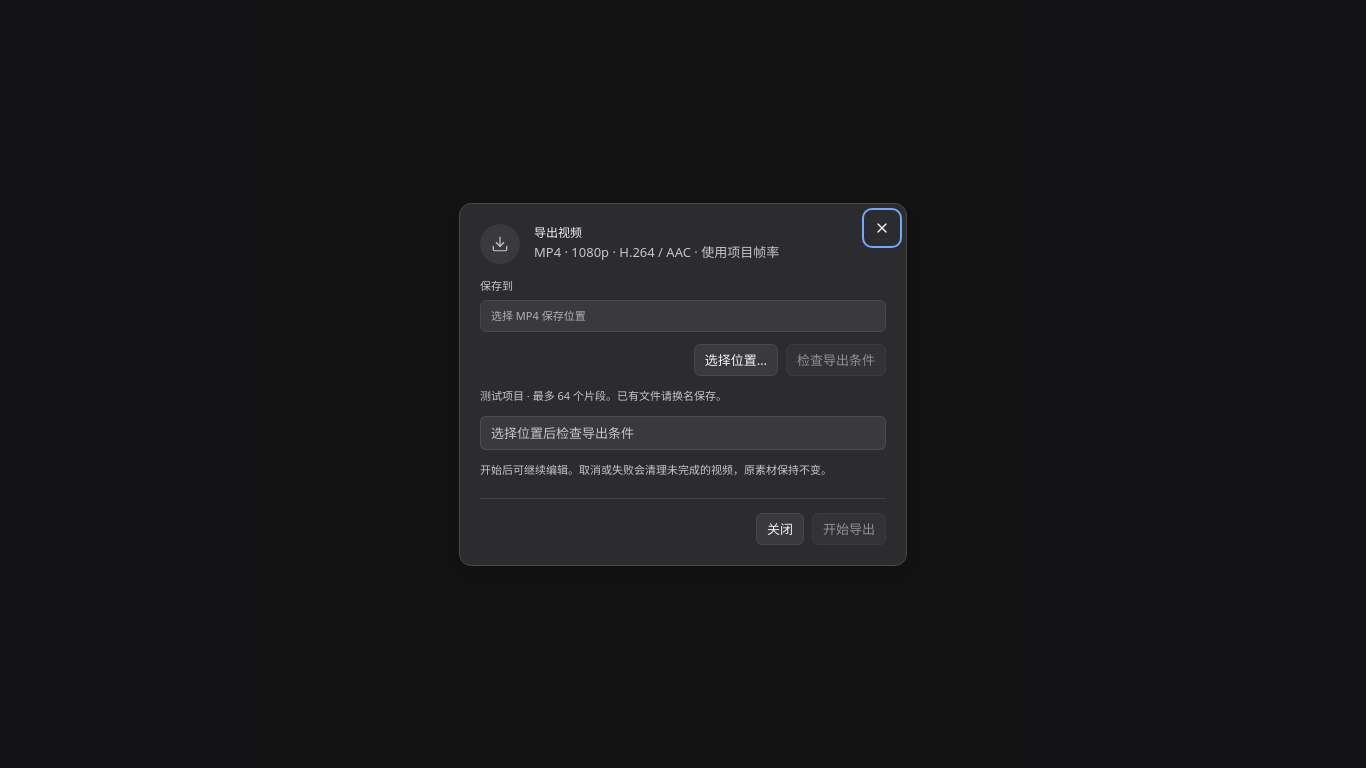
Test case: export workflow › lets an unsaved project choose a native output path and checks it before encoding
Check: the button "检查导出条件" is disabled, box [786, 344, 886, 376]
Check: the button "开始导出" is disabled, box [812, 512, 886, 544]
Click the button "选择位置…": (736, 360) [694, 344, 778, 376]
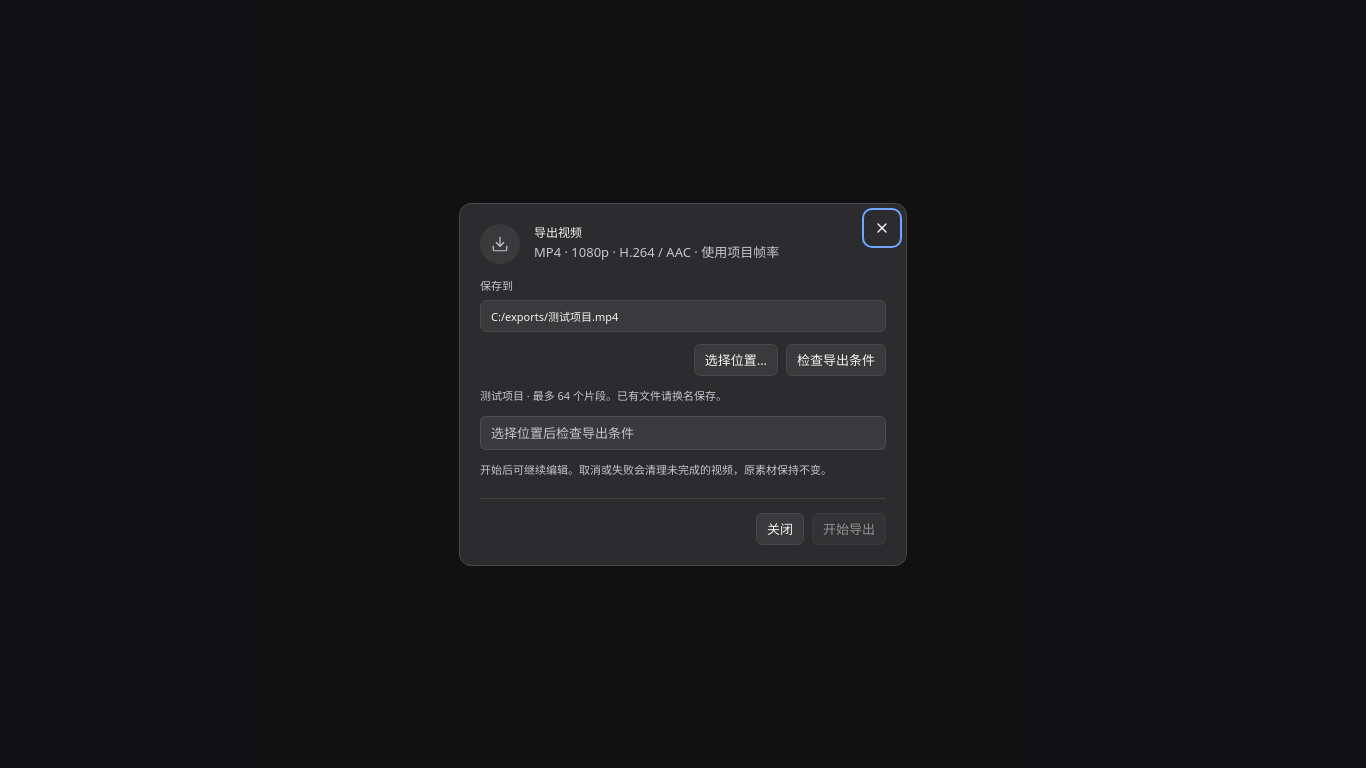
Check: the field named "导出位置" holds "C:/exports/测试项目.mp4", box [480, 300, 886, 332]
Click the button "检查导出条件": (836, 360) [786, 344, 886, 376]
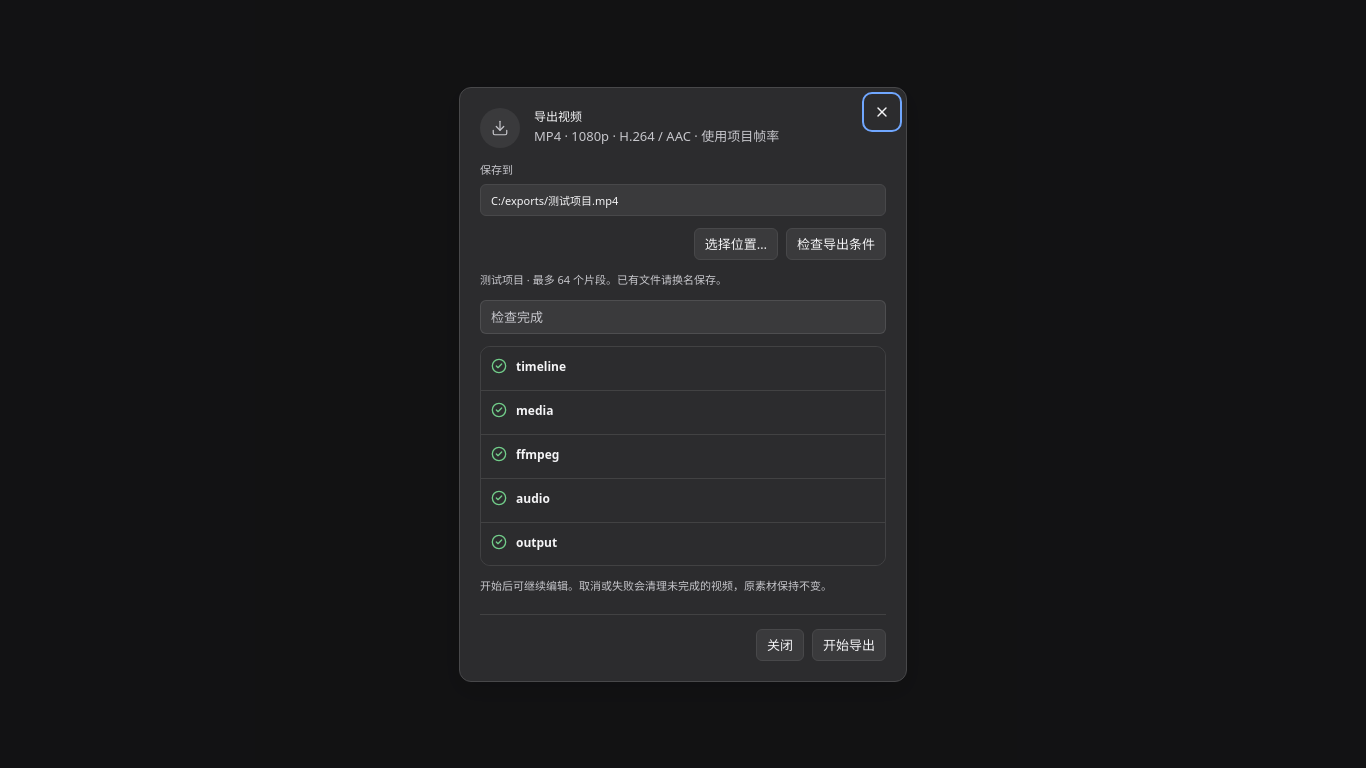
Check: the button "开始导出" is enabled, box [812, 628, 886, 660]
